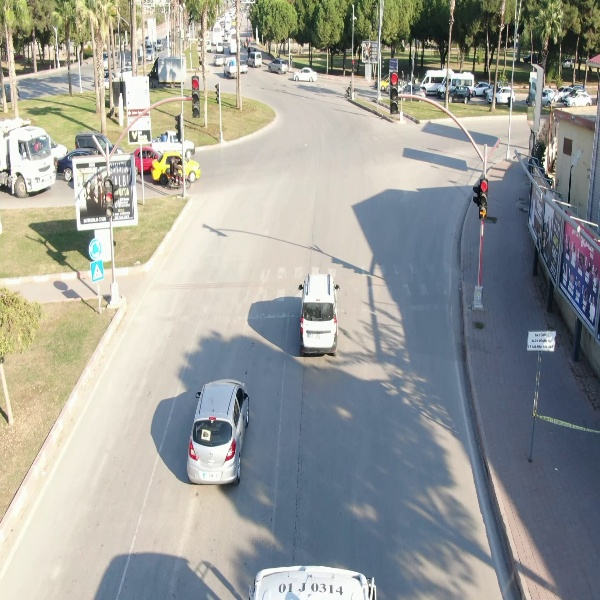car: (186, 377, 254, 486), (297, 270, 341, 358), (487, 85, 517, 106), (561, 88, 593, 106), (447, 83, 474, 103), (291, 66, 320, 82), (266, 55, 289, 75), (246, 49, 265, 69), (213, 53, 224, 68)
